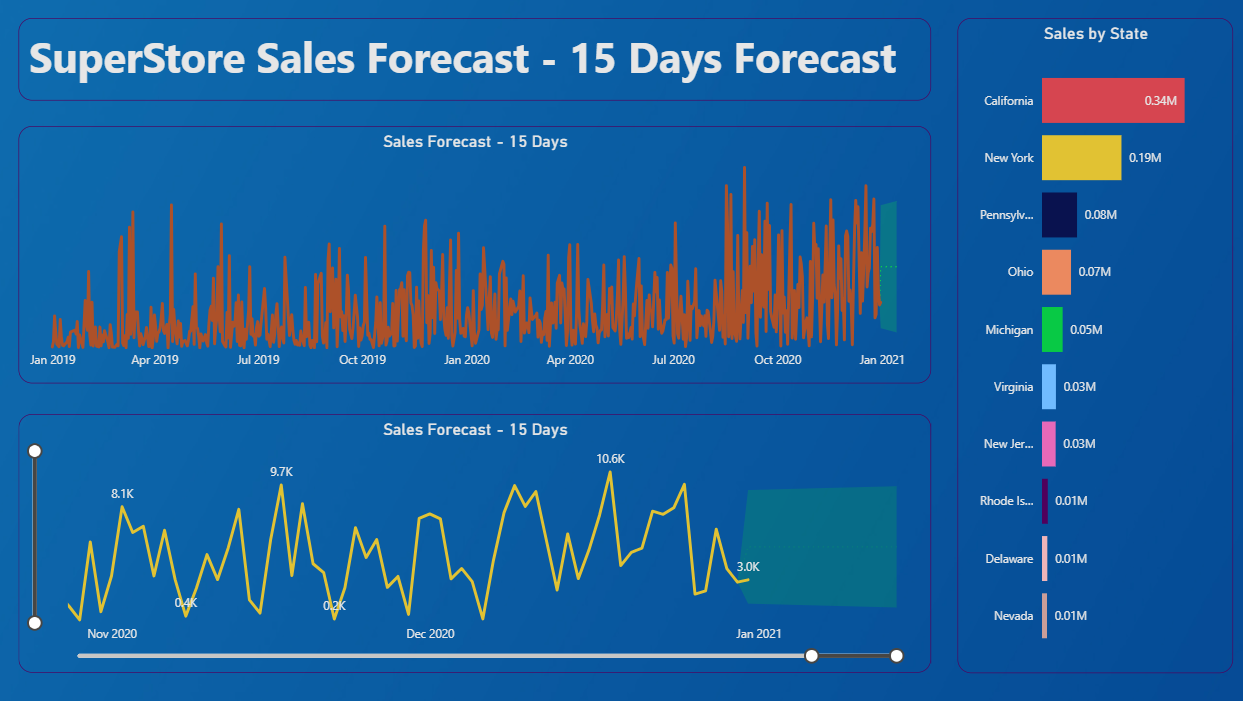

Layout of this report page (visuals, bound fields, positions):
{"tool":"powerbi","page":{"name":"Page 2","canvas":[1280,720],"ordinal":1},"visuals":[{"type":"lineChart","title":"Sales Forecast - 15 Days","fields":{"Y":["Sum(SuperStore_Sales_Dataset.Sales)"],"Category":["SuperStore_Sales_Dataset.Order Date"]},"box":[20.3,129.7,935.9,264.1],"z":0},{"type":"lineChart","title":"Sales Forecast - 15 Days","fields":{"Y":["Sum(SuperStore_Sales_Dataset.Sales)"],"Category":["SuperStore_Sales_Dataset.Order Date"]},"box":[20.3,425,935.9,265.6],"z":1000},{"type":"textbox","box":[20.3,18.8,935.9,84.4],"z":2000},{"type":"clusteredBarChart","title":"Sales by State","fields":{"Category":["SuperStore_Sales_Dataset.State"],"Y":["Sum(SuperStore_Sales_Dataset.Sales)"]},"box":[982.8,18.8,282.8,671.9],"z":3000}]}

Visuals, with their boxes in screenshot pixels (x1, y1, x2, y2), scaled from the page's 1280x720 canvas onto the 1243x701 screenshot:
"Sales Forecast - 15 Days" lineChart: box=[20, 126, 929, 383]
"Sales Forecast - 15 Days" lineChart: box=[20, 414, 929, 672]
textbox: box=[20, 18, 929, 100]
"Sales by State" clusteredBarChart: box=[954, 18, 1229, 672]
